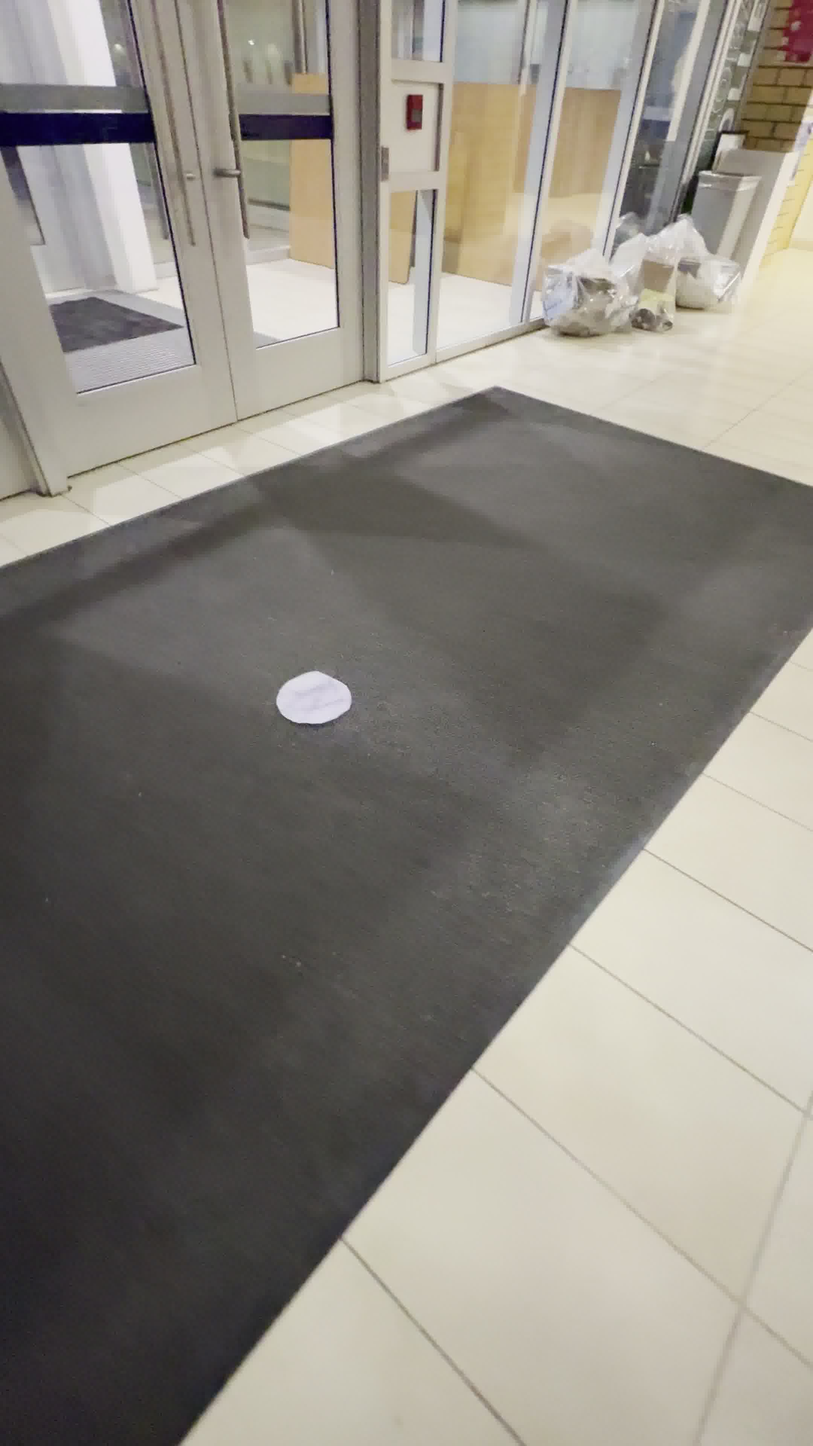Target: (275, 671, 352, 724)
